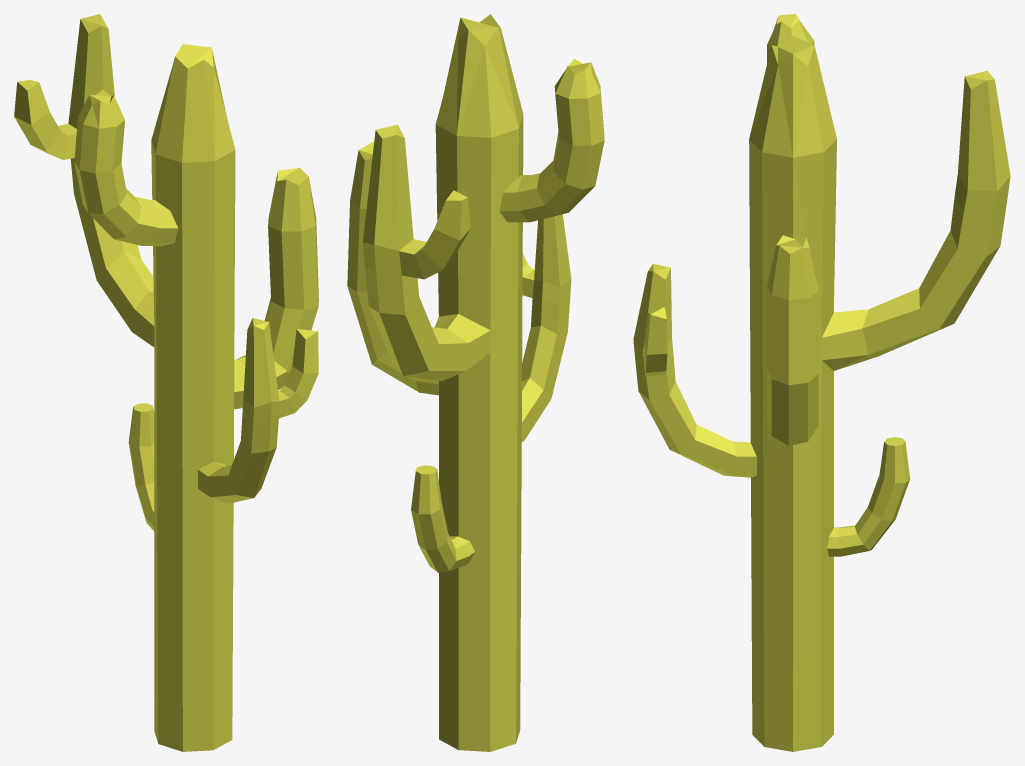
The model's file is plant01.fbx.
The picture shows the model from 3 angles, left to right: view 1: azimuth 30°, elevation 25°; view 2: azimuth 150°, elevation 25°; view 3: azimuth 270°, elevation 25°; orthographic projection. The views are drawn at different scales.
Visible parts, largest first — view 1: plant01; view 2: plant01; view 3: plant01.
Boxes of the visible parts, x1,y1,x2,y2 form: plant01: (14, 14, 318, 751); plant01: (347, 14, 604, 751); plant01: (633, 14, 1010, 751).
Bounding box in the file's own units: 0.5003 × 0.674 × 1.36.
